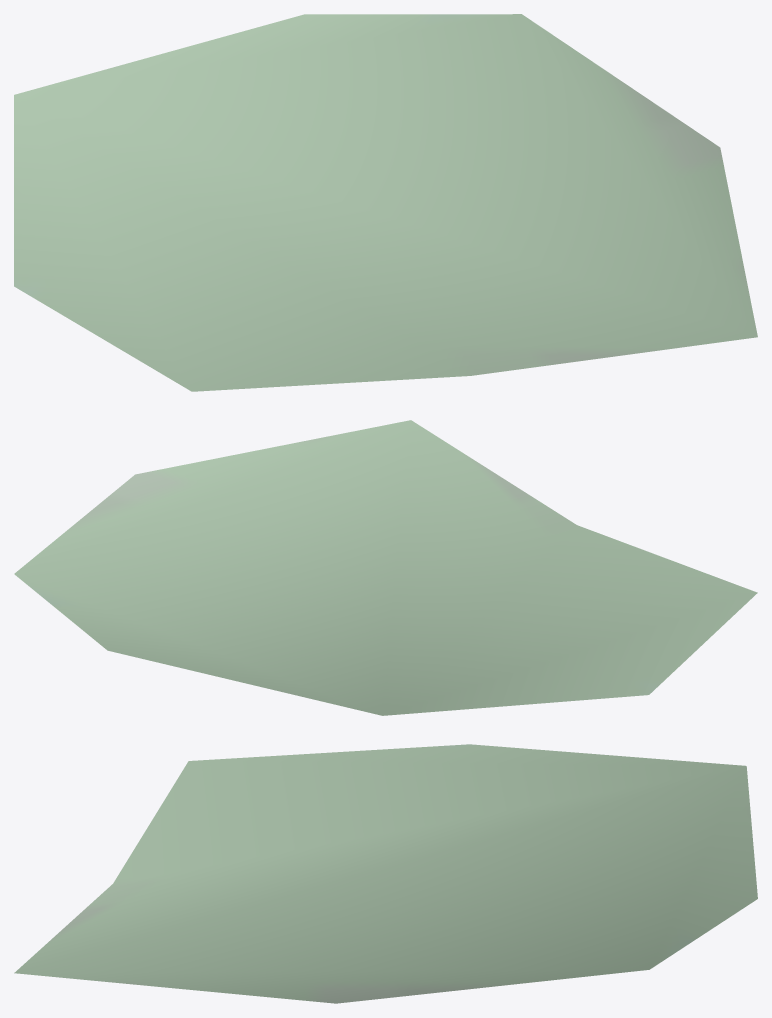
The model's file is TROLLHOLE02_HOLECAP52.fbx.
3 renders of one model, top to bottom at view 1: azimuth 30°, elevation 25°; view 2: azimuth 150°, elevation 25°; view 3: azimuth 270°, elevation 25°, orthographic. The views are drawn at different scales.
Parts seen in each view (by area): view 1: TROLLHOLE02_HOLECAP52; view 2: TROLLHOLE02_HOLECAP52; view 3: TROLLHOLE02_HOLECAP52.
Boxes of the visible parts, box(x1,y1,x2,y2) form: TROLLHOLE02_HOLECAP52: box(14, 14, 757, 391); TROLLHOLE02_HOLECAP52: box(14, 420, 757, 715); TROLLHOLE02_HOLECAP52: box(14, 744, 757, 1003).
Bounding box in the file's own units: 18334 × 1992 × 19669.
Materials: 1 (1 with a texture image).
